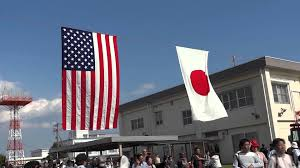Japanese Flag: (174, 44, 230, 122)
